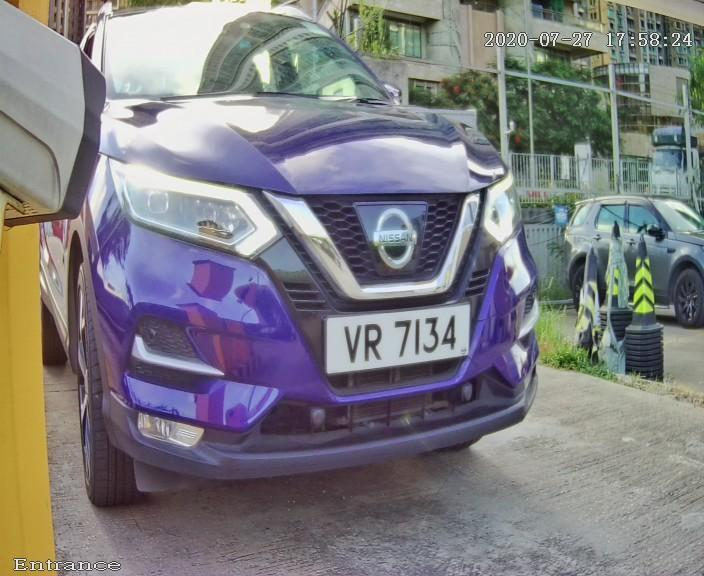privatecar: (23, 21, 601, 510)
